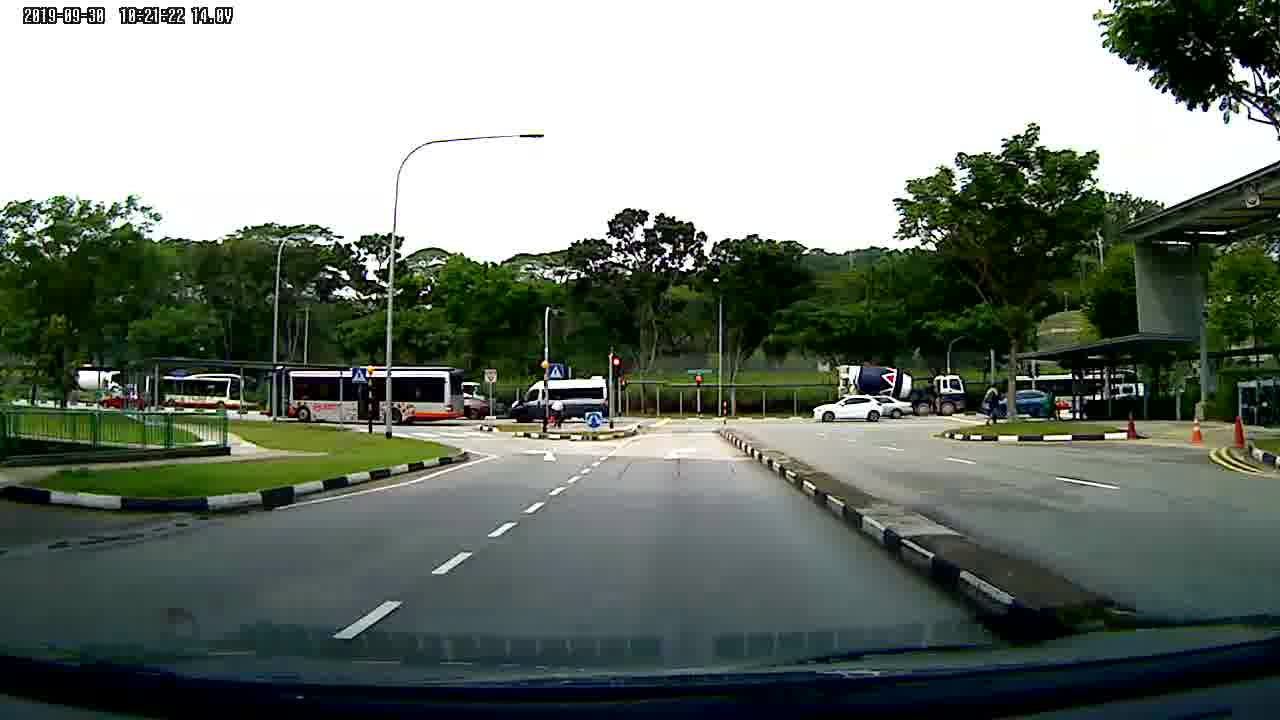bus: (263, 364, 464, 429), (146, 372, 255, 414)
car: (812, 396, 883, 426), (878, 394, 920, 422)
